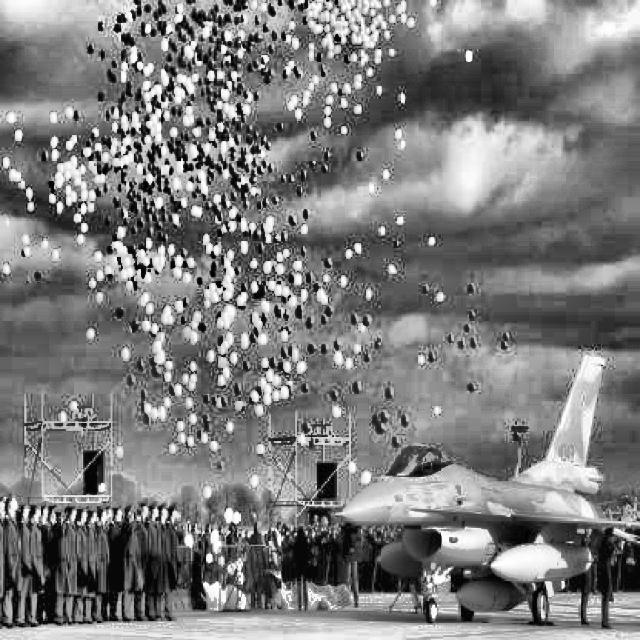F16: (331, 349, 638, 625)
